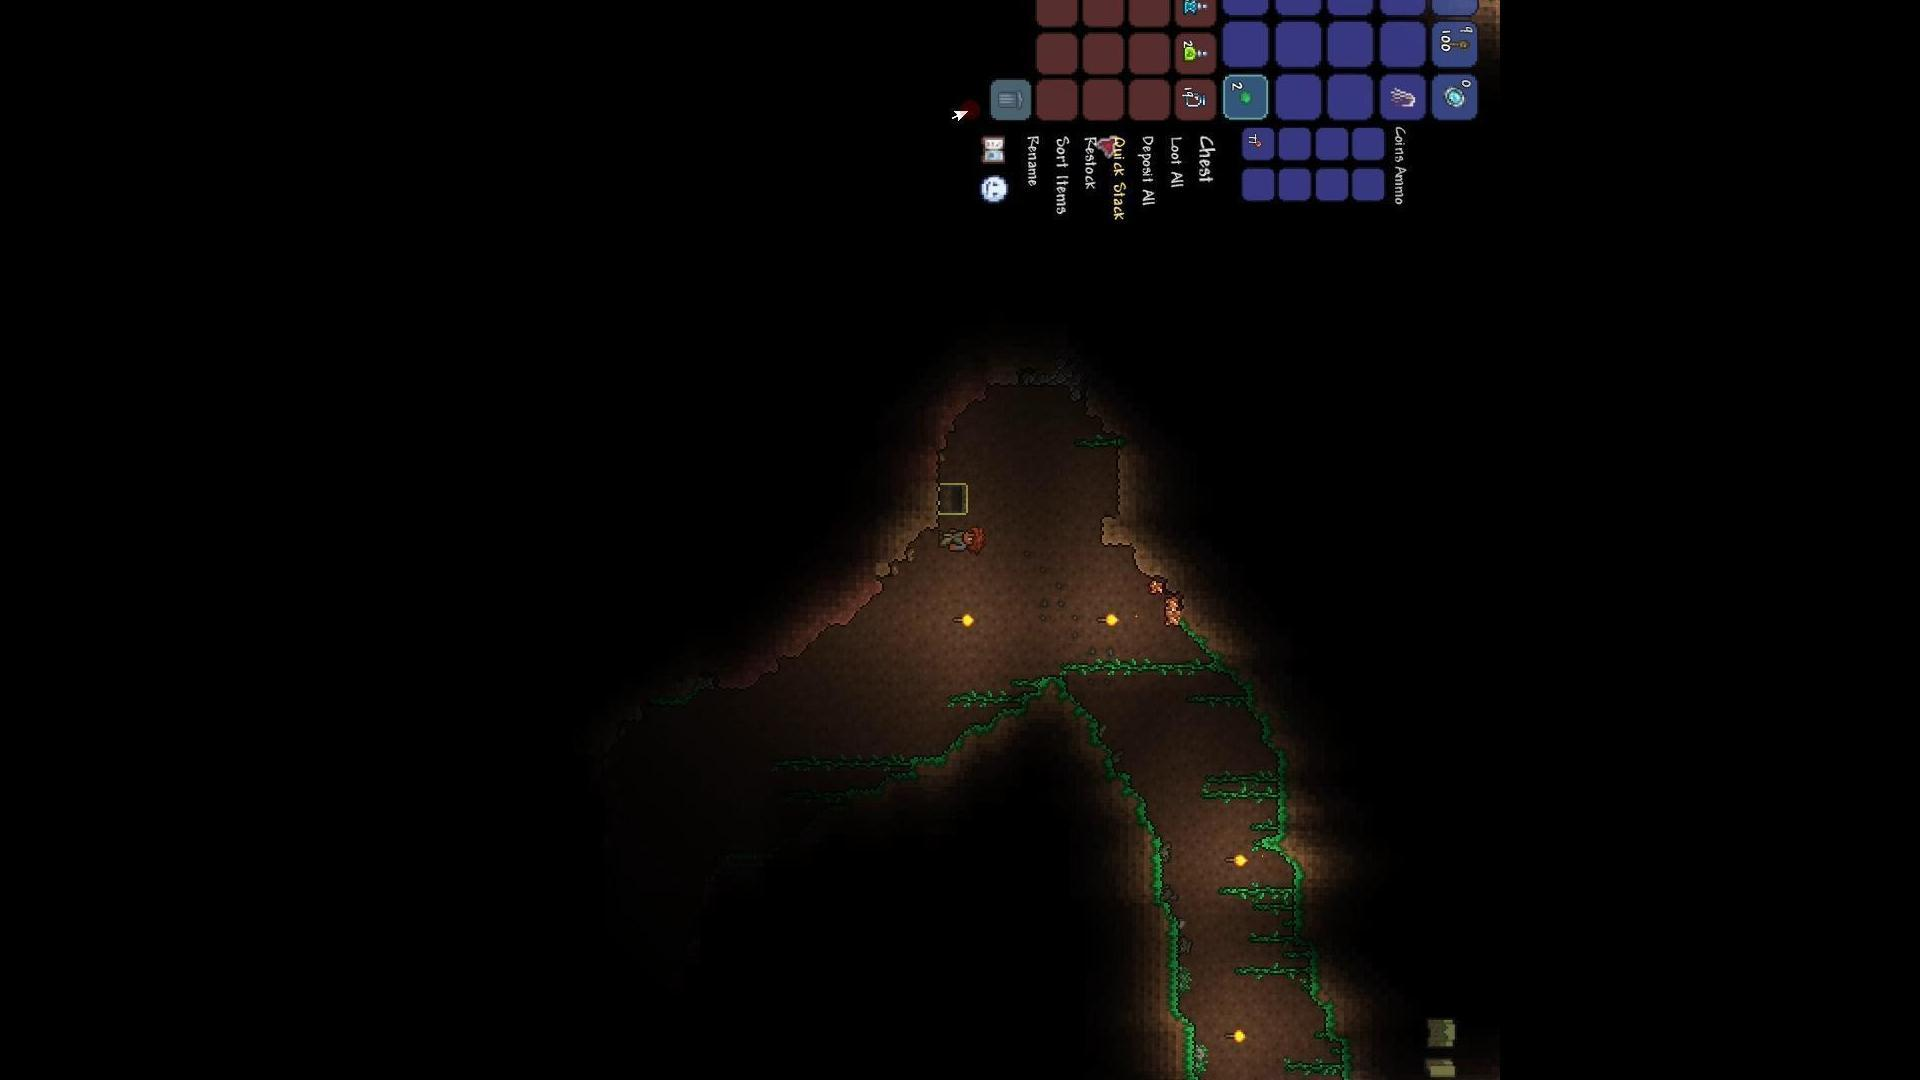recallP: (1175, 0, 1222, 33)
